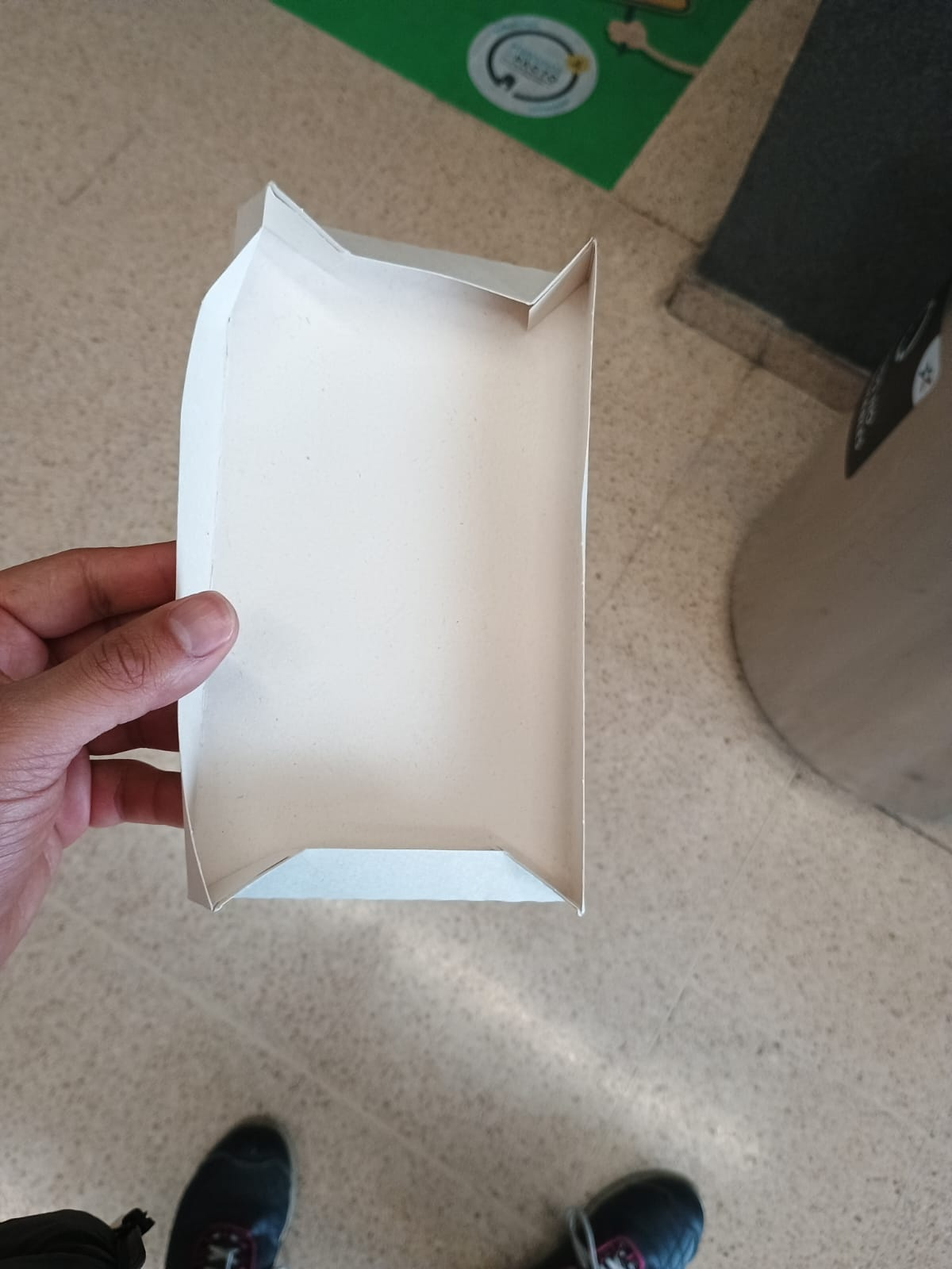Carton: (173, 181, 597, 915)
